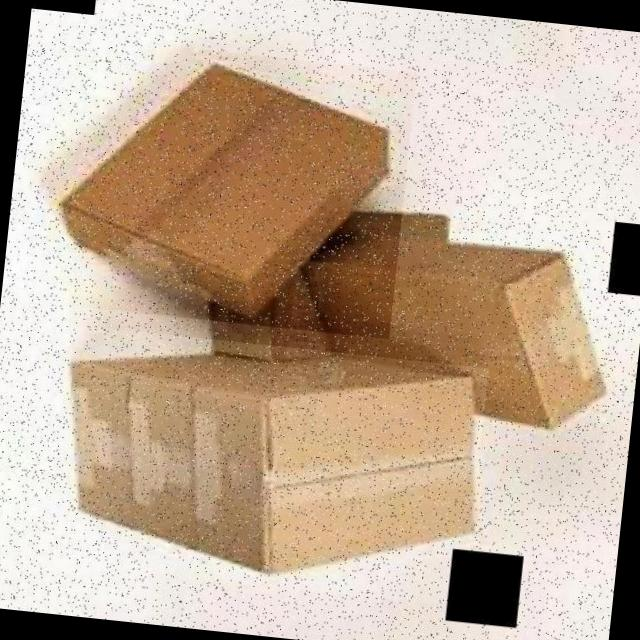box: (34, 322, 488, 606), (28, 34, 417, 339)
